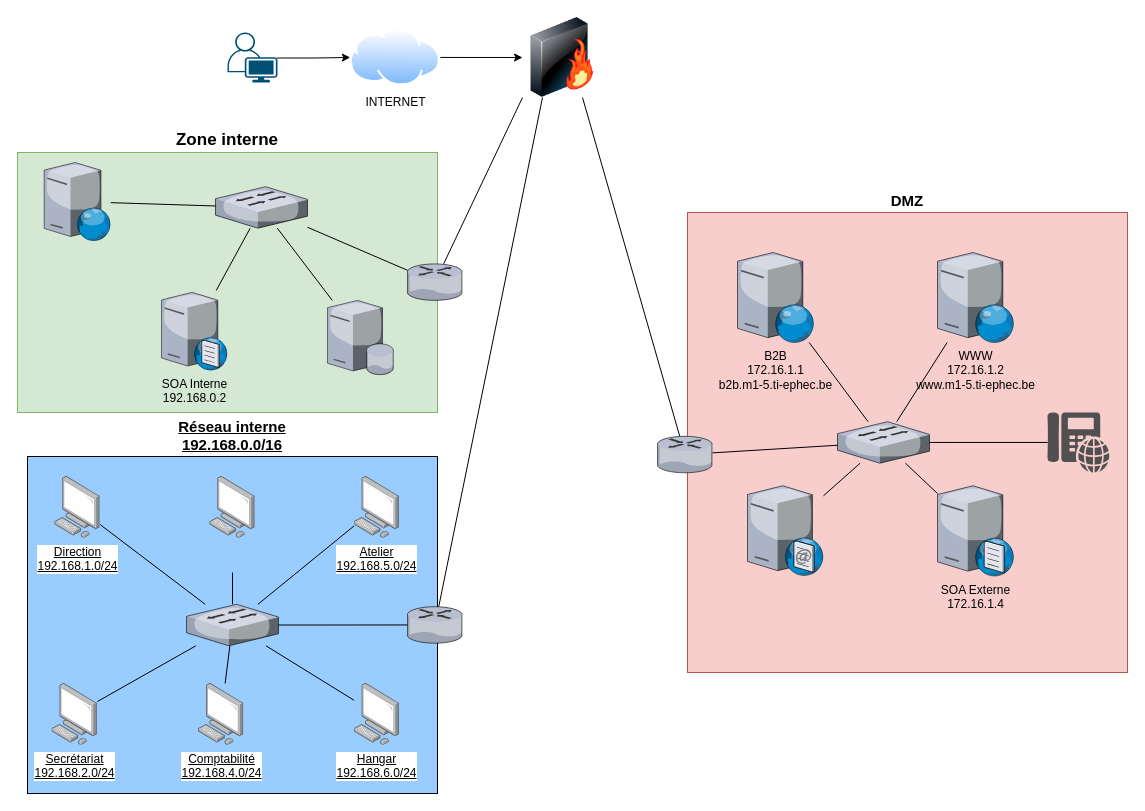
Image size: 1145x811. Some labels were removed from this diagram. Here are the shapes that lost their labels. From the top down, the centre of each, then its label:
At [562,57]: "Pare-feu".
At [77,201]: "ERP 192.168.0.3 erp.m1-5.ti-ephec.be".
At [360,337]: "Base de données 192.168.0.1".
At [1078,442]: "VoIP".
At [232,507]: "Commerciaux 192.168.3.0/24".
At [785,529]: "Mail 172.16.1.3".
